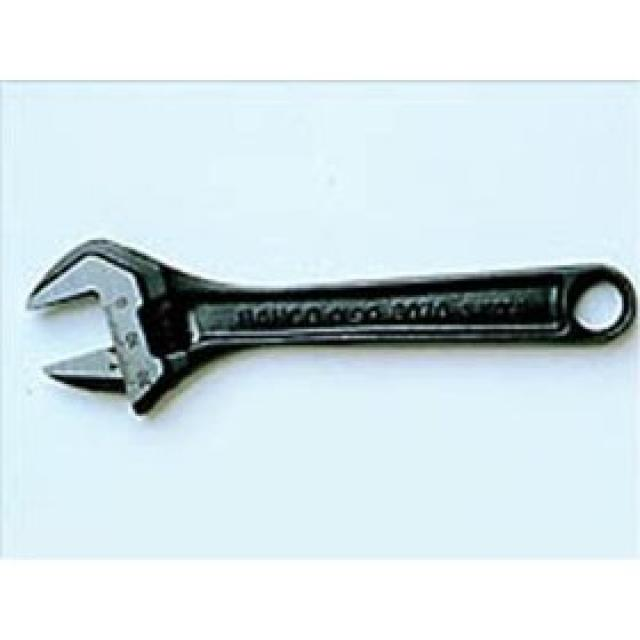wrench: (9, 223, 638, 423)
